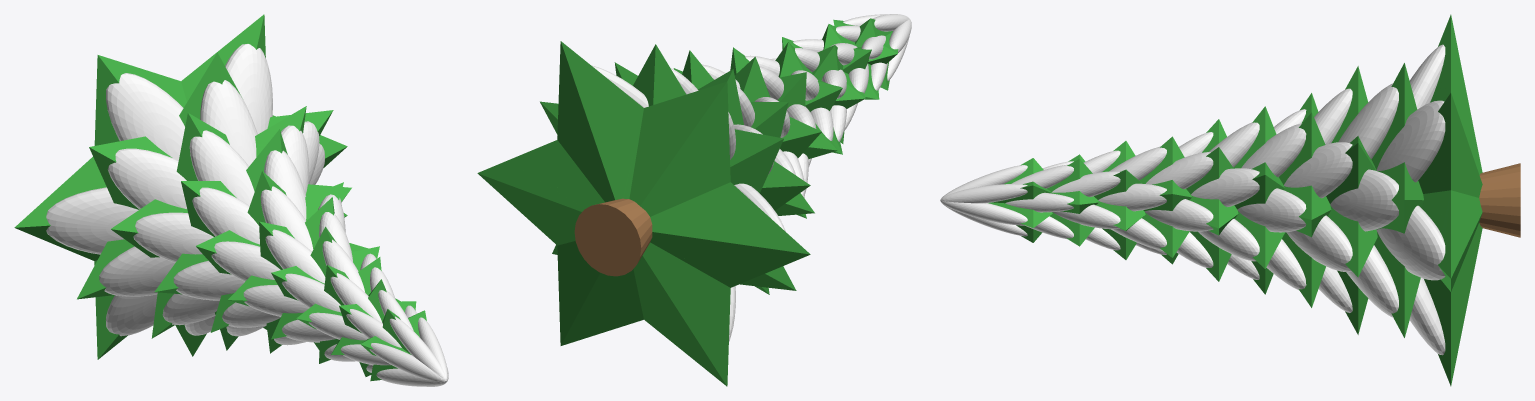
File: tinker.obj
3 views of the same model, side by side, from view 1: azimuth 30°, elevation 25°; view 2: azimuth 150°, elevation 25°; view 3: azimuth 270°, elevation 25° (orthographic). The views are drawn at different scales.
Visible parts, largest first — view 1: group_0_16448250, group_0_4634441; view 2: group_0_4634441, group_0_16448250, group_0_11107152; view 3: group_0_16448250, group_0_4634441, group_0_11107152.
Part boxes in pixels (bbox=[...]): group_0_16448250: bbox=[46, 44, 448, 386]; group_0_4634441: bbox=[14, 14, 426, 381]; group_0_4634441: bbox=[477, 18, 898, 386]; group_0_16448250: bbox=[592, 14, 911, 341]; group_0_11107152: bbox=[574, 198, 652, 276]; group_0_16448250: bbox=[940, 44, 1445, 355]; group_0_4634441: bbox=[988, 14, 1482, 386]; group_0_11107152: bbox=[1479, 163, 1520, 237].
Bounding box in the file's own units: 40 × 35 × 62.5.
